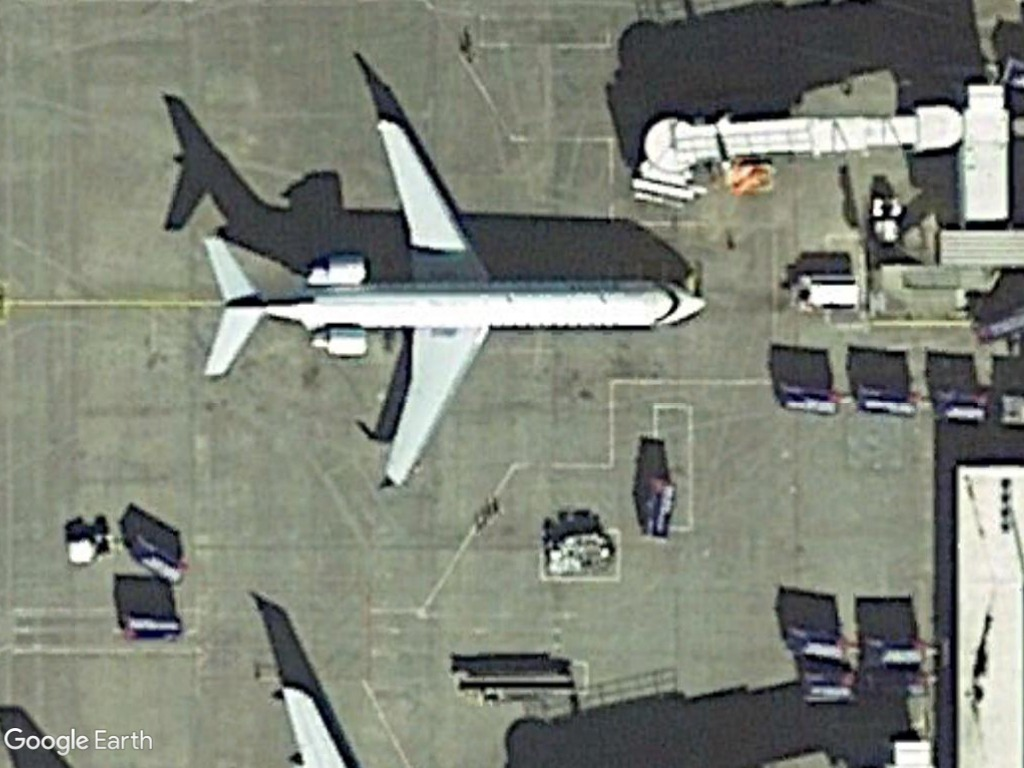chartered: (193, 109, 712, 497)
